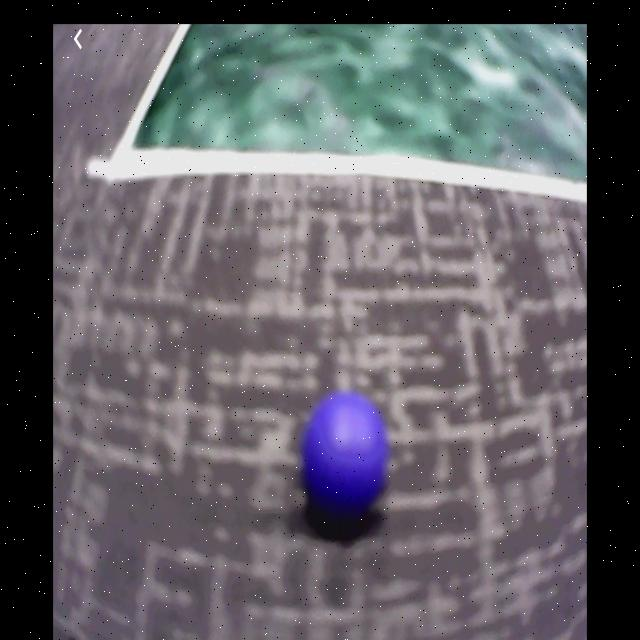ball: (303, 398, 389, 523)
